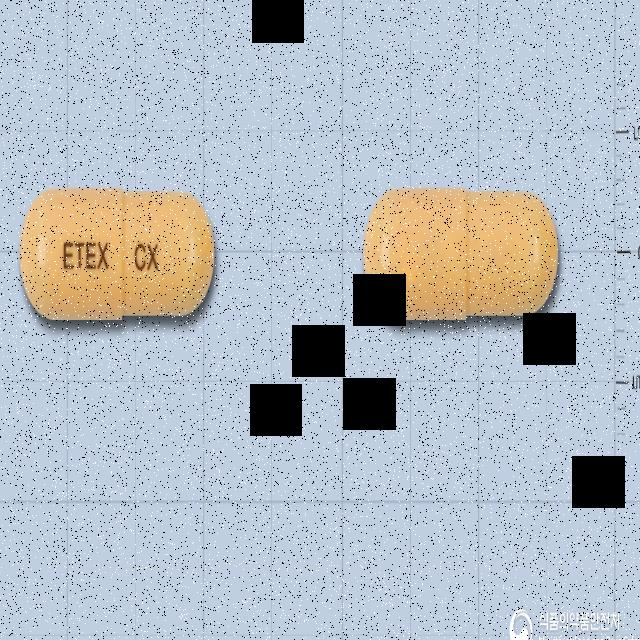Cefixime Cap- Etex: (14, 182, 220, 335)
